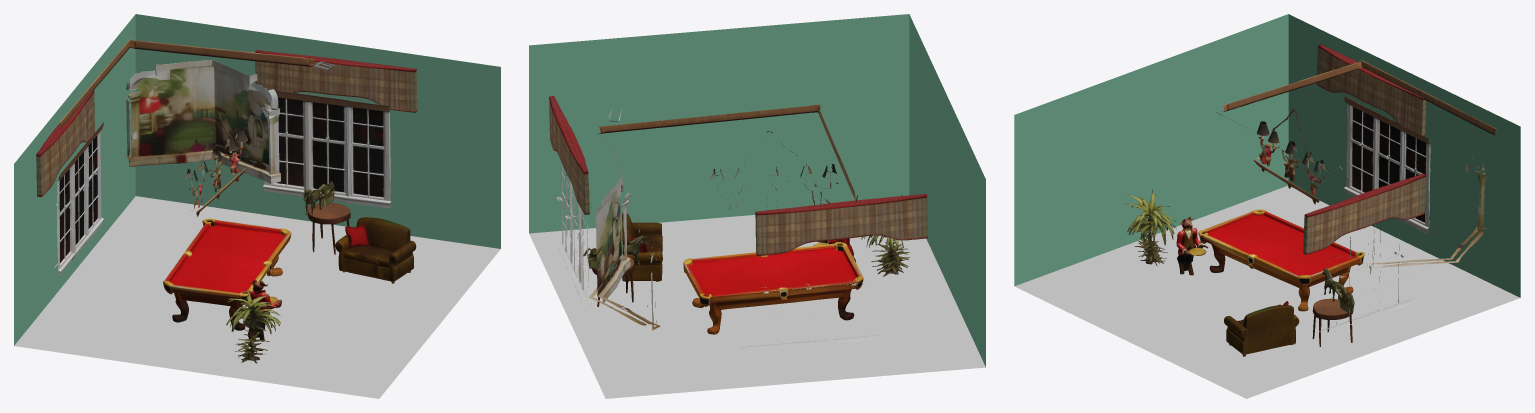
File: mit-gameroom-at.glb
3 views of the same model, side by side, from view 1: azimuth 30°, elevation 25°; view 2: azimuth 150°, elevation 25°; view 3: azimuth 270°, elevation 25° (orthographic). The views are drawn at different scales.
Visible parts, largest first — view 1: Wall_02, Floor, Wall_03, world.001, world.010, world, world.011, world.004, Ceiling, world.008, world.013, world.006; view 2: Wall_01, Floor, Wall_04, world.001, world.011, Wall_02, Wall_03, world.010, world, world.004, world.006, Ceiling; view 3: Wall_04, Floor, Wall_03, world.001, world.010, world.011, world, Ceiling, world.004, Wall_02, world.013, world.008 (+1 smaller).
Boxes of the visible parts, left/top/right/bottom form: Wall_02: left=125, top=14, right=500, bottom=248; Floor: left=14, top=196, right=500, bottom=398; Wall_03: left=14, top=14, right=319, bottom=345; world.001: left=163, top=218, right=291, bottom=330; world.010: left=255, top=50, right=417, bottom=112; world: left=335, top=217, right=416, bottom=283; world.011: left=36, top=90, right=94, bottom=196; world.004: left=226, top=288, right=280, bottom=363; Ceiling: left=185, top=61, right=334, bottom=216; world.008: left=307, top=202, right=350, bottom=254; world.013: left=247, top=279, right=281, bottom=342; world.006: left=303, top=181, right=334, bottom=215; Wall_01: left=529, top=14, right=909, bottom=233; Floor: left=529, top=215, right=985, bottom=398; Wall_04: left=909, top=14, right=985, bottom=366; world.001: left=683, top=242, right=863, bottom=334; world.011: left=755, top=194, right=927, bottom=255; Wall_02: left=556, top=162, right=660, bottom=330; Wall_03: left=597, top=104, right=877, bottom=350; world.010: left=549, top=96, right=589, bottom=214; world: left=622, top=213, right=662, bottom=281; world.004: left=861, top=194, right=909, bottom=276; world.006: left=583, top=235, right=648, bottom=268; Ceiling: left=609, top=110, right=838, bottom=208; Wall_04: left=1014, top=14, right=1288, bottom=286; Floor: left=1015, top=186, right=1519, bottom=398; Wall_03: left=1216, top=14, right=1520, bottom=297; world.001: left=1198, top=209, right=1364, bottom=311; world.010: left=1303, top=173, right=1426, bottom=254; world.011: left=1316, top=44, right=1426, bottom=136; world: left=1224, top=301, right=1299, bottom=356; Ceiling: left=1253, top=109, right=1342, bottom=204; world.004: left=1124, top=189, right=1176, bottom=265; Wall_02: left=1318, top=157, right=1486, bottom=332; world.013: left=1176, top=216, right=1208, bottom=275; world.008: left=1312, top=298, right=1352, bottom=346.
Size of the model in its own units: 8.96 by 3.39 by 8.98.
20 materials, 14 textured.
